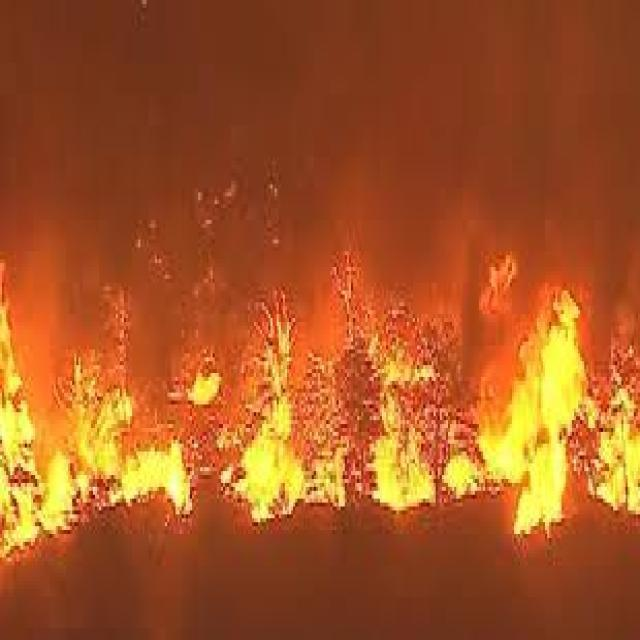Fire: (0, 3, 638, 342), (8, 291, 117, 522), (485, 303, 573, 521), (238, 352, 320, 510), (128, 441, 192, 516), (443, 454, 478, 499), (190, 374, 221, 407)
Smoke: (294, 17, 632, 231), (132, 27, 290, 150), (19, 31, 146, 184)
